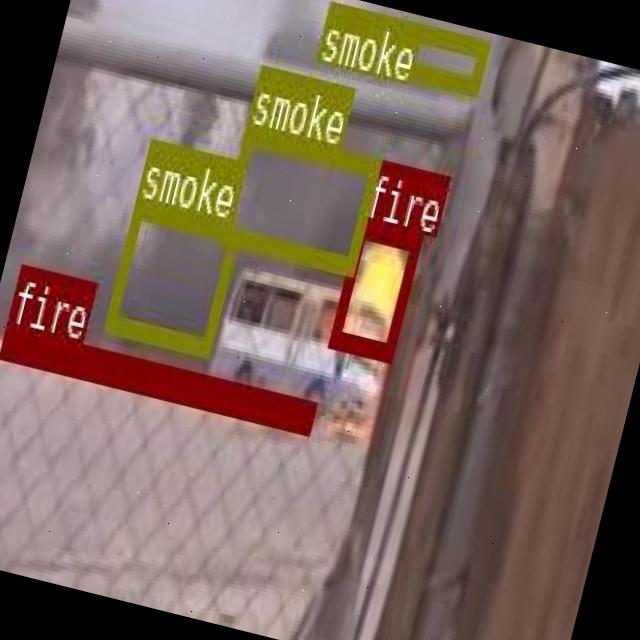fire: (0, 321, 314, 430), (328, 216, 421, 356)
smoke: (218, 126, 380, 272), (103, 198, 240, 351), (316, 0, 488, 90)
